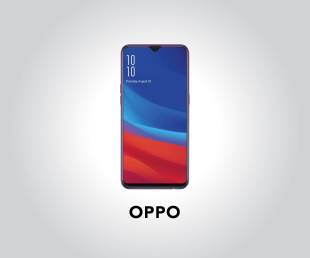Handphone: (118, 41, 193, 190)
